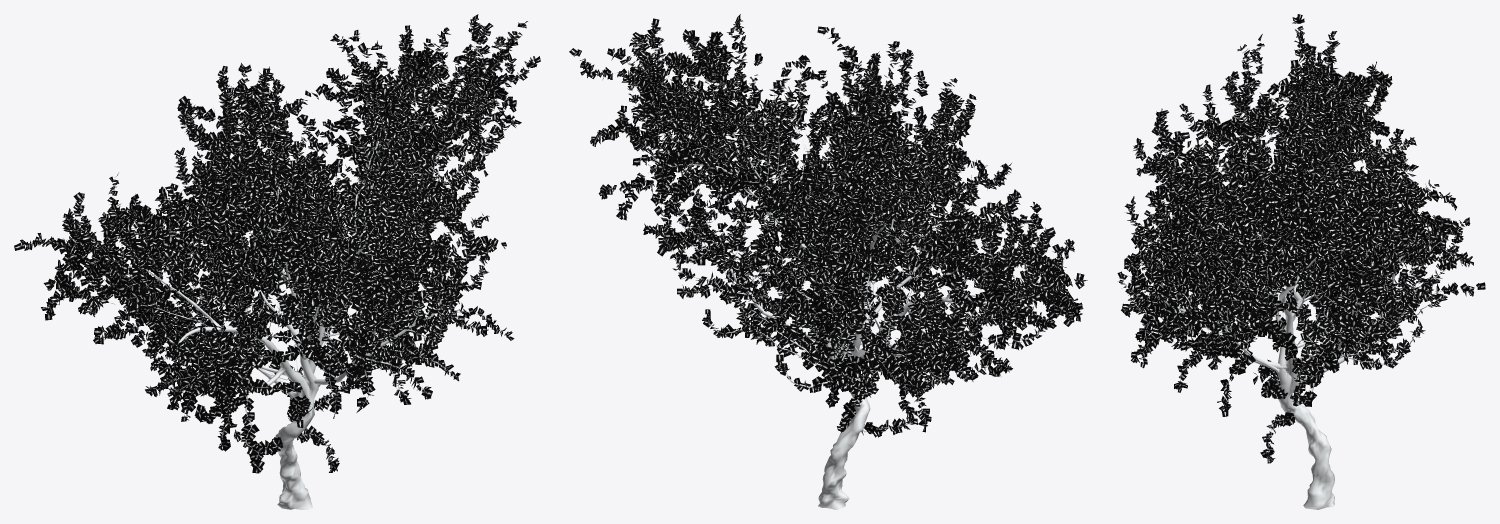
The model's file is tree.glb.
3 renders of one model, left to right at view 1: azimuth 30°, elevation 25°; view 2: azimuth 150°, elevation 25°; view 3: azimuth 270°, elevation 25°, orthographic.
Parts seen in each view (by area): view 1: Hojas, Tronco, Ultima_rama; view 2: Hojas, Tronco, Ultima_rama; view 3: Hojas, Tronco, Ultima_rama.
Boxes of the visible parts, x1,y1,x2,y2 form: Hojas: [14, 14, 540, 473]; Tronco: [53, 66, 486, 509]; Ultima_rama: [51, 43, 510, 462]; Hojas: [569, 14, 1087, 437]; Tronco: [635, 67, 1061, 509]; Ultima_rama: [580, 42, 1070, 431]; Hojas: [1117, 14, 1485, 463]; Tronco: [1161, 86, 1433, 509]; Ultima_rama: [1123, 41, 1476, 456].
Size of the model in its own units: 11.21 by 9.78 by 7.13.
Materials: 3 (1 with a texture image).
